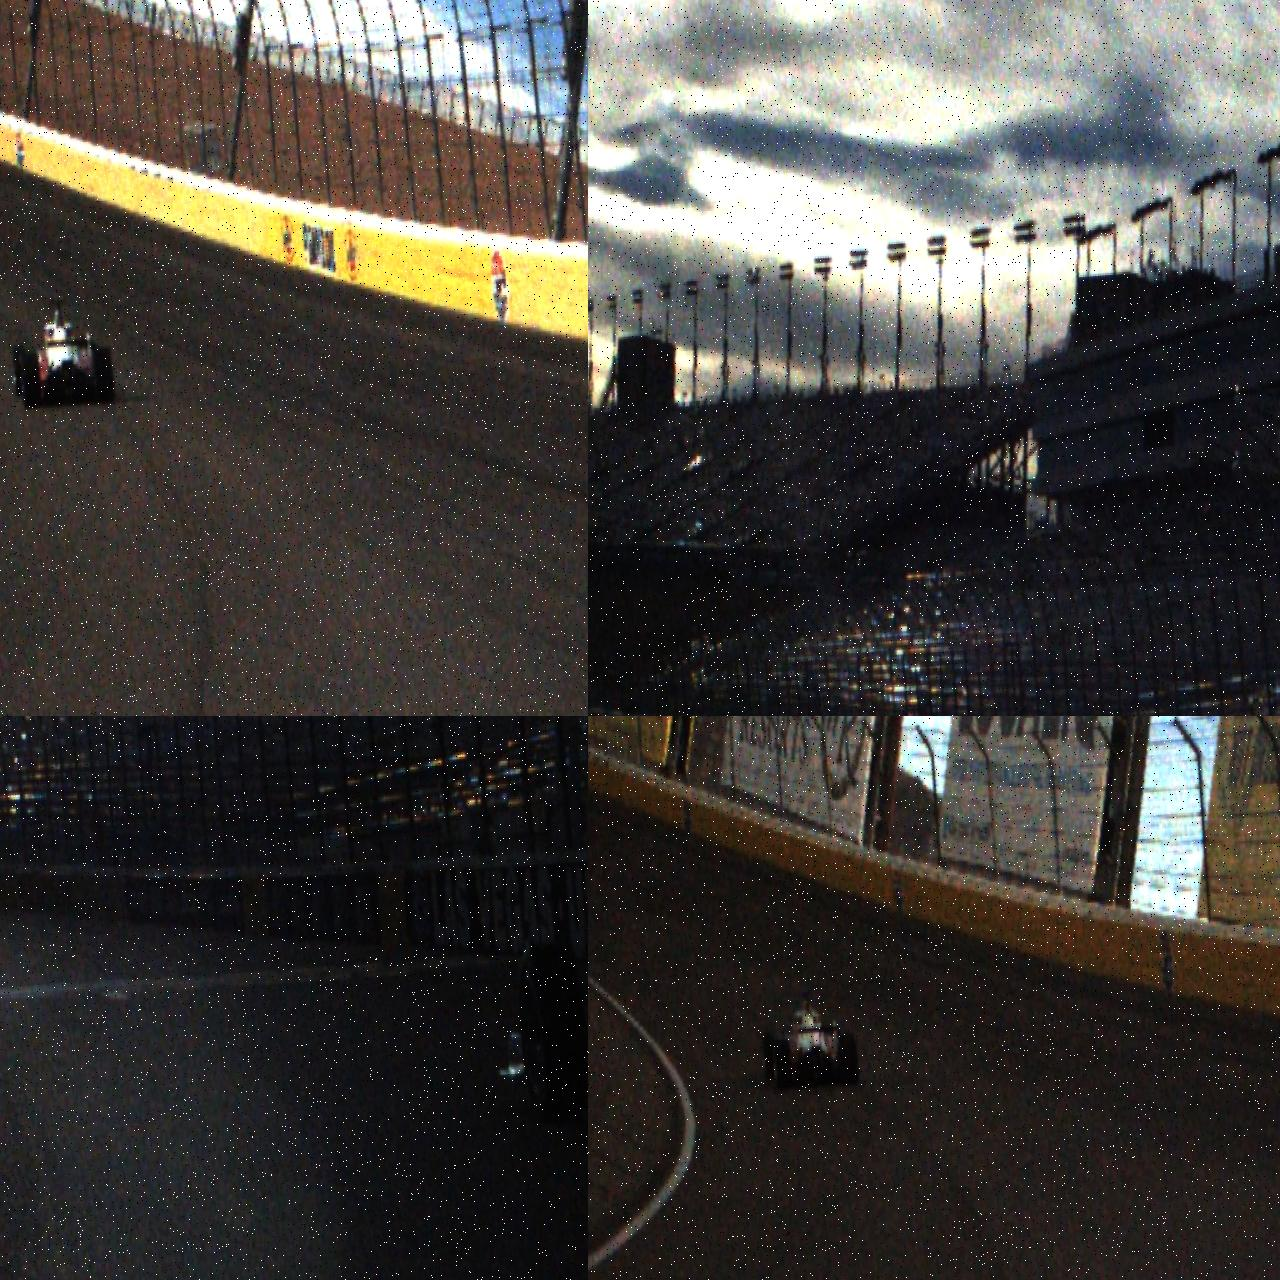AV: (484, 843, 588, 1176), (7, 293, 116, 411), (758, 988, 861, 1094)
Wheel: (514, 939, 588, 1117), (20, 351, 43, 410), (838, 1032, 860, 1088), (772, 1038, 794, 1092), (95, 346, 115, 404), (760, 1030, 779, 1082), (12, 344, 28, 397)
